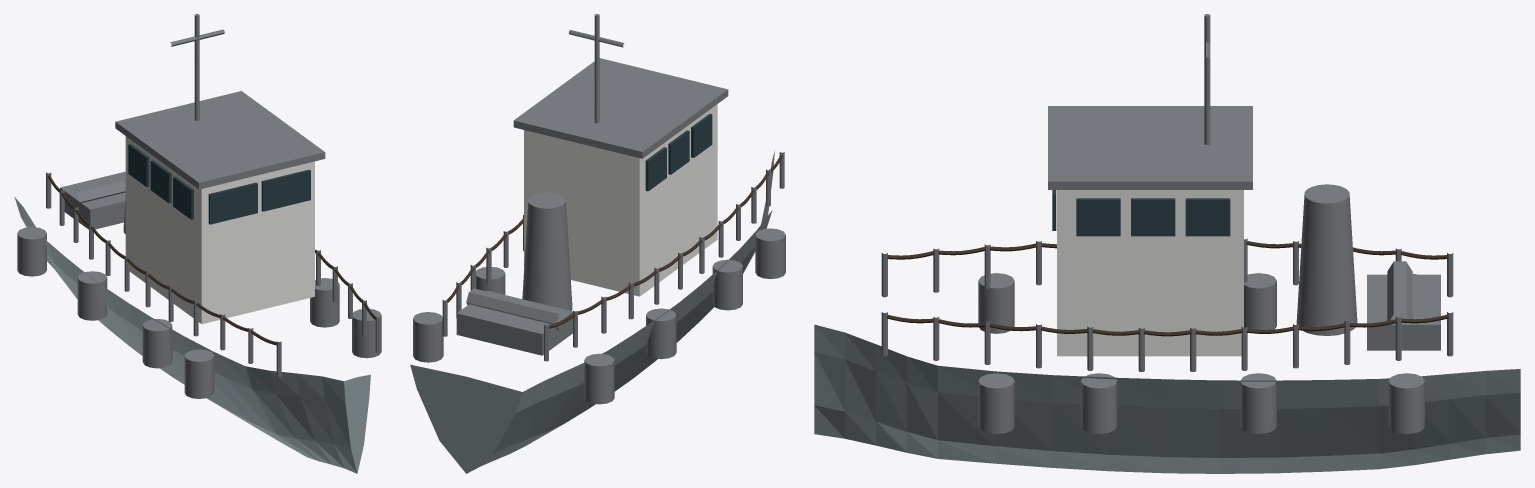
The model's file is tug.gltf.
The picture shows the model from 3 angles, left to right: view 1: azimuth 30°, elevation 25°; view 2: azimuth 150°, elevation 25°; view 3: azimuth 270°, elevation 25°; orthographic projection. The views are drawn at different scales.
Visible parts, largest first — view 1: tug-wheelhouse, tug-hull, tug-towing-gear; view 2: tug-wheelhouse, tug-towing-gear, tug-hull; view 3: tug-hull, tug-wheelhouse, tug-towing-gear.
Part boxes in pixels (bbox=[...]): tug-wheelhouse: bbox=[46, 14, 380, 377]; tug-hull: bbox=[14, 197, 370, 473]; tug-towing-gear: bbox=[17, 171, 381, 398]; tug-wheelhouse: bbox=[442, 14, 784, 361]; tug-towing-gear: bbox=[413, 155, 785, 404]; tug-hull: bbox=[410, 150, 774, 473]; tug-hull: bbox=[814, 324, 1520, 473]; tug-wheelhouse: bbox=[881, 14, 1453, 371]; tug-towing-gear: bbox=[886, 184, 1448, 433].
Bounding box in the file's own units: 2.4 × 4.44 × 6.2.
